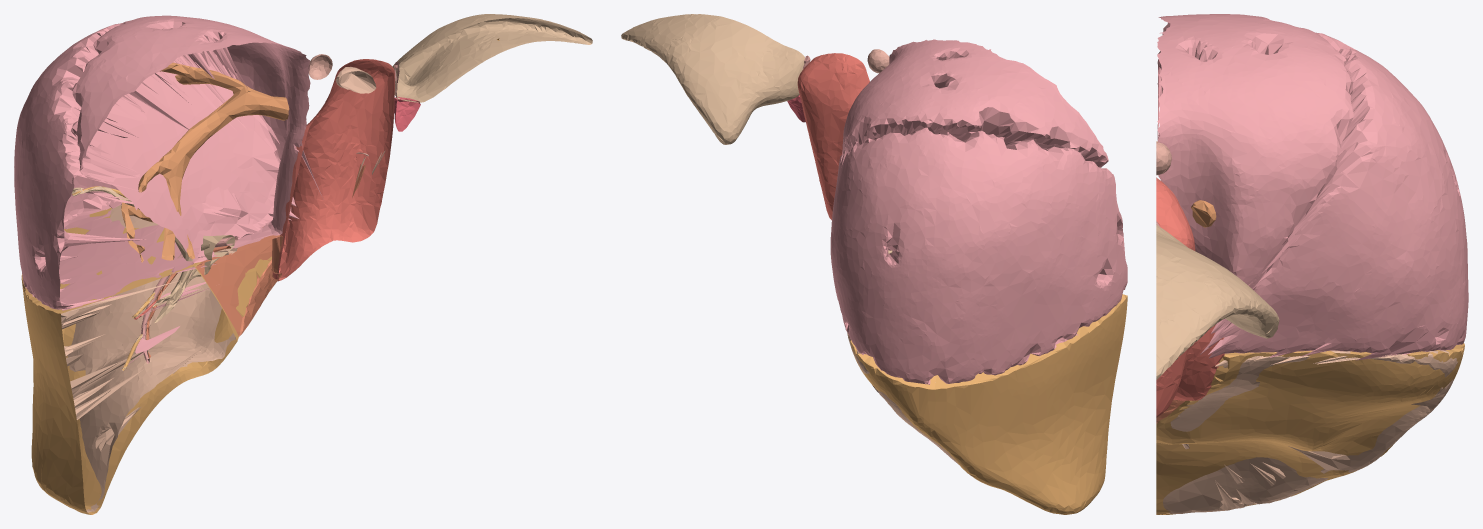
File: fegato_interno.glb
3 renders of one model, left to right at view 1: azimuth 30°, elevation 25°; view 2: azimuth 150°, elevation 25°; view 3: azimuth 270°, elevation 25°, orthographic. The views are drawn at different scales.
Parts seen in each view (by area): view 1: hepatovenous segment viii, hepatovenous segment vi, caudate lobe of liver, hepatovenous segment vii, hepatovenous segment ii, right hepatic vein, hepatovenous segment v, right portal vein, posterior superior segmental hepatic artery, left hepatic vein, hepatovenous segment iii; view 2: hepatovenous segment viii, hepatovenous segment vii, hepatovenous segment ii, caudate lobe of liver; view 3: hepatovenous segment viii, hepatovenous segment vii, hepatovenous segment vi, hepatovenous segment ii, caudate lobe of liver, right hepatic vein, anterior inferior segmental tributary of middle hepatic vein.
Boxes of the visible parts, x1,y1,x2,y2 form: hepatovenous segment viii: (14,15,323,310); hepatovenous segment vi: (61,204,235,512); caudate lobe of liver: (272,59,394,281); hepatovenous segment vii: (21,207,271,514); hepatovenous segment ii: (392,14,592,102); right hepatic vein: (121,62,289,262); hepatovenous segment v: (196,227,283,336); right portal vein: (71,186,234,370); posterior superior segmental hepatic artery: (85,192,209,364); left hepatic vein: (335,66,376,93); hepatovenous segment iii: (394,97,420,131); hepatovenous segment viii: (830,39,1127,384); hepatovenous segment vii: (848,294,1127,514); hepatovenous segment ii: (621,14,804,144); caudate lobe of liver: (797,53,869,220); hepatovenous segment viii: (1157,14,1468,360); hepatovenous segment vii: (1156,343,1464,514); hepatovenous segment vi: (1163,350,1457,513); hepatovenous segment ii: (1156,225,1279,379); caudate lobe of liver: (1156,177,1224,417); right hepatic vein: (1156,141,1216,227); anterior inferior segmental tributary of middle hepatic vein: (1156,142,1171,175).
Size of the model in its own units: 198 by 155 by 79.46.
